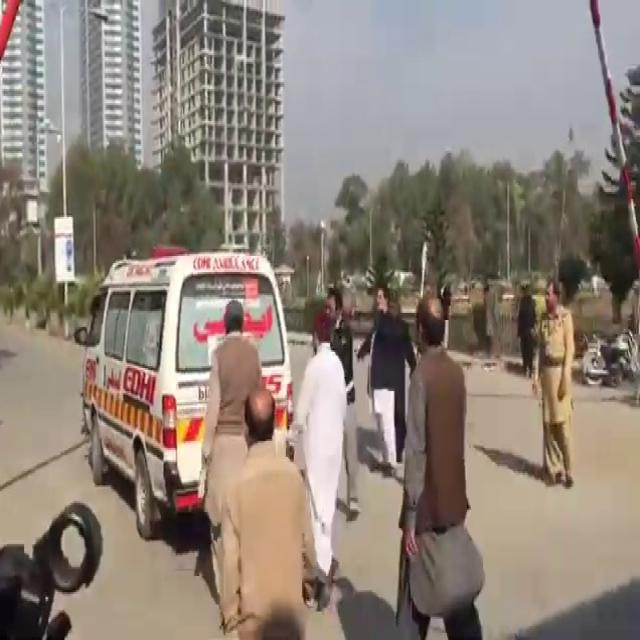ambulance: (78, 224, 305, 481)
